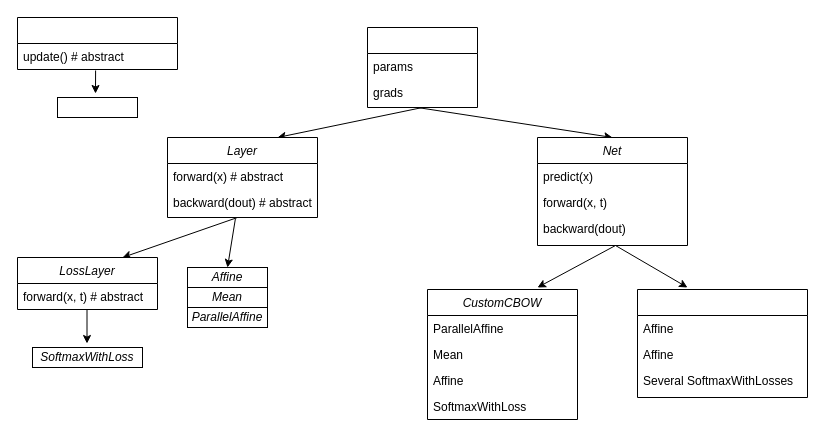
Some shapes in this 825 by 440 pixel diagram are drawn without their labels. The shapes that lost their labels are listed below. From the top down, each one's box as (x1, y1, x2, y2) in pixels, then its label:
(16, 16, 178, 70): Optimizer
(366, 26, 478, 108): Model
(56, 96, 138, 118): SGD
(636, 288, 808, 398): CustomSkipGram
